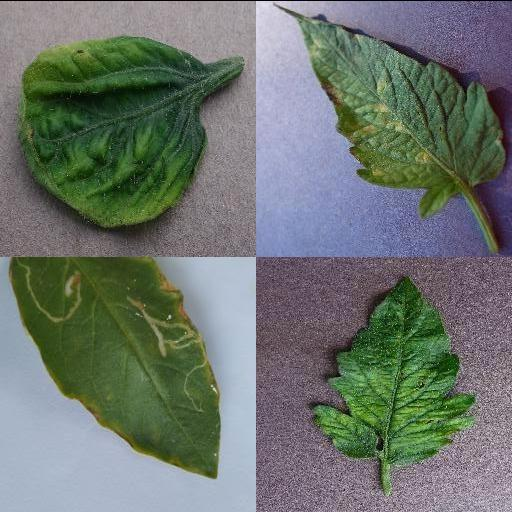Leaf Miner: (7, 256, 219, 479)
Leaf Mold: (296, 17, 510, 215)
Mosaic Virus: (310, 273, 478, 463)
Yellow Leaf Curl Virus: (16, 35, 208, 227)
